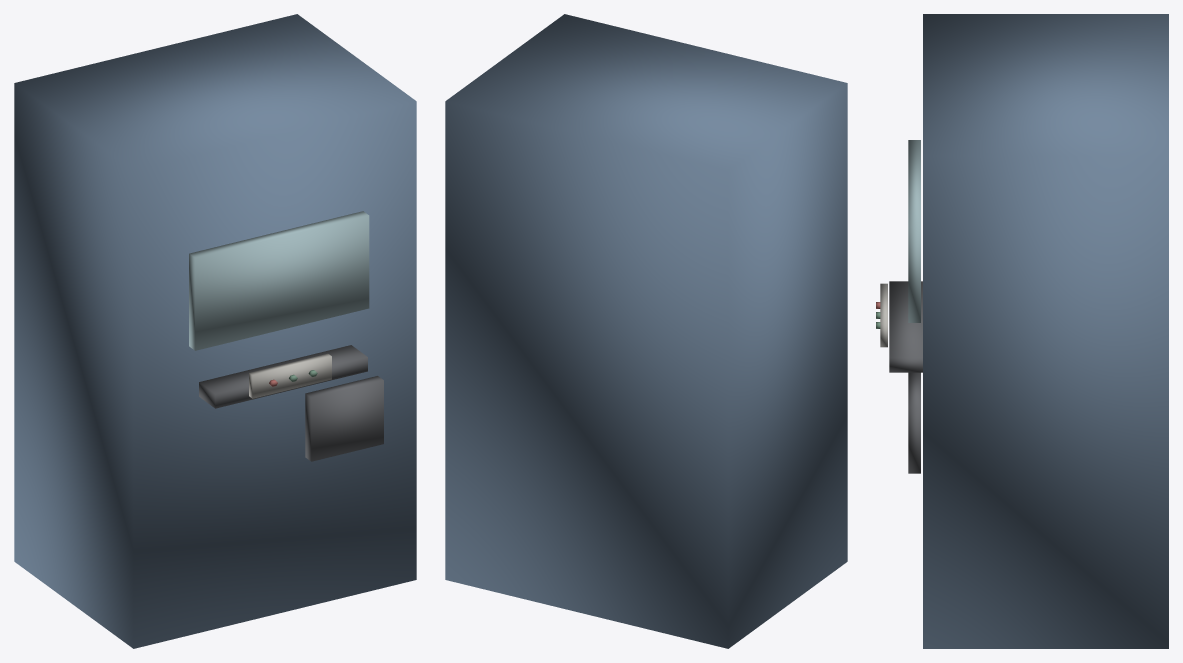
The model's file is atm__squat.glb.
The picture shows the model from 3 angles, left to right: view 1: azimuth 30°, elevation 25°; view 2: azimuth 150°, elevation 25°; view 3: azimuth 270°, elevation 25°; orthographic projection. The views are drawn at different scales.
Parts seen in each view (by area): view 1: world; view 2: world; view 3: world.
Part boxes in pixels (x1,y1,x2,y2): world: [14, 14, 416, 648]; world: [445, 14, 847, 648]; world: [876, 14, 1168, 648].
Size of the model in its own units: 0.858 by 1.39 by 0.7463.
